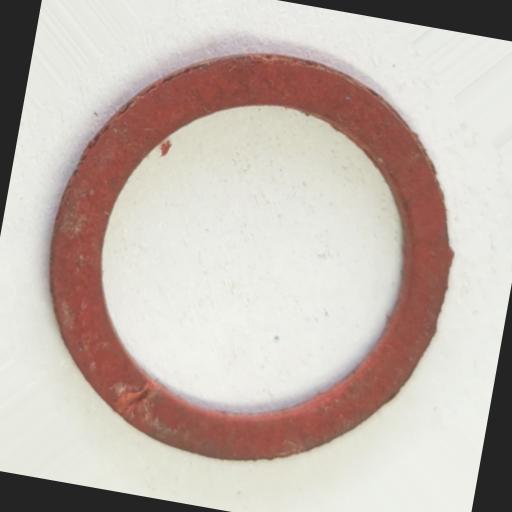defect: (115, 374, 157, 421)
